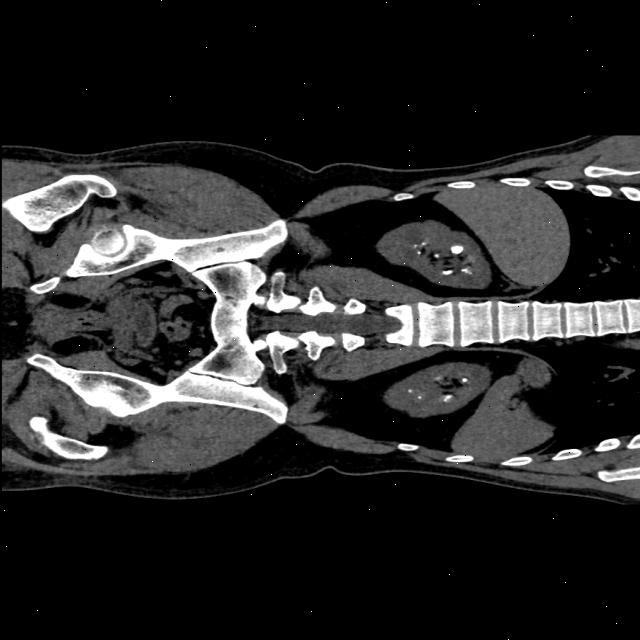kidneystone: (449, 245, 462, 255), (442, 270, 455, 275)
